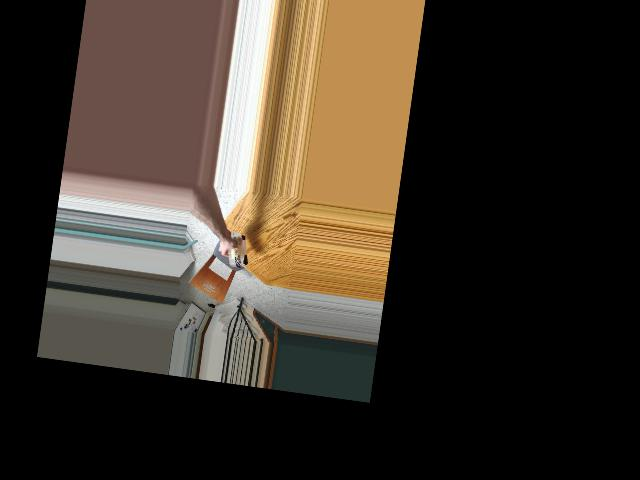cheese: (224, 231, 251, 267)
